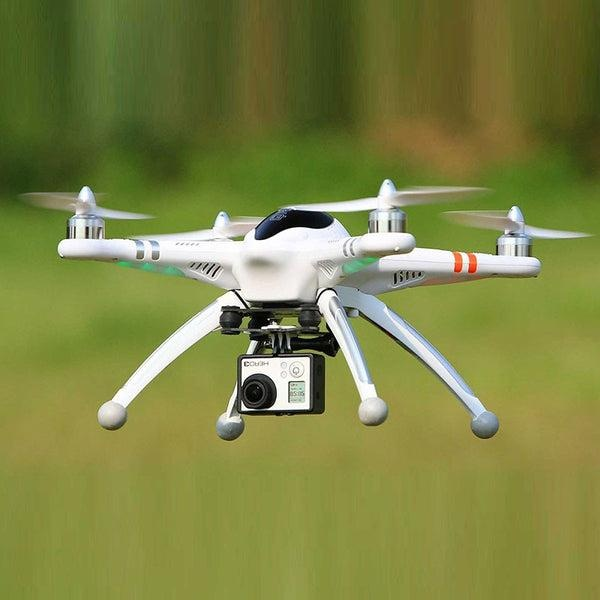aircraft: (62, 176, 543, 444)
